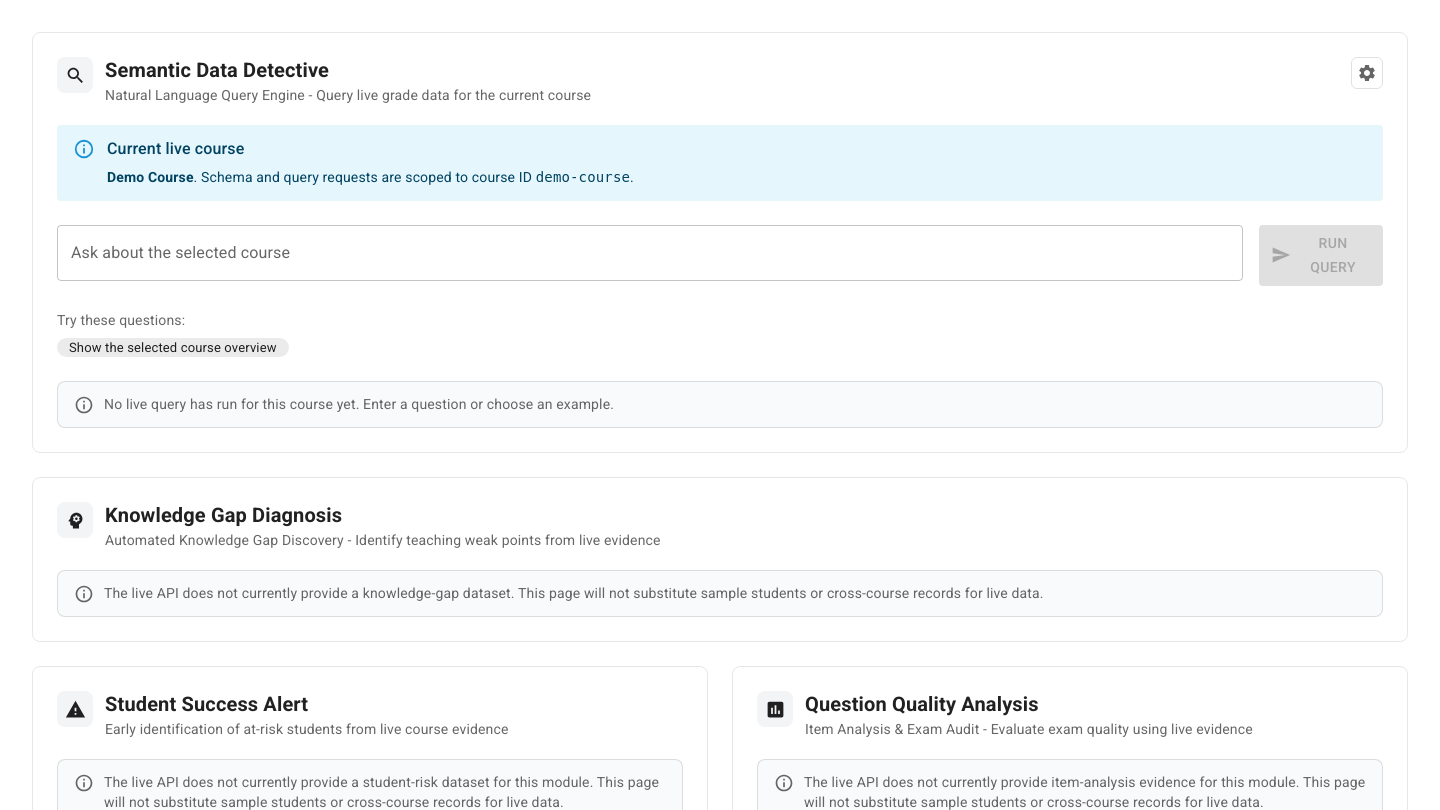
Scenario: AI Analytics live request states › renders live statistics objects instead of dropping their values
Type "Show statistics" into the field labelled "Ask about the selected course". click: (650, 253)
box: [57,225,1243,281]
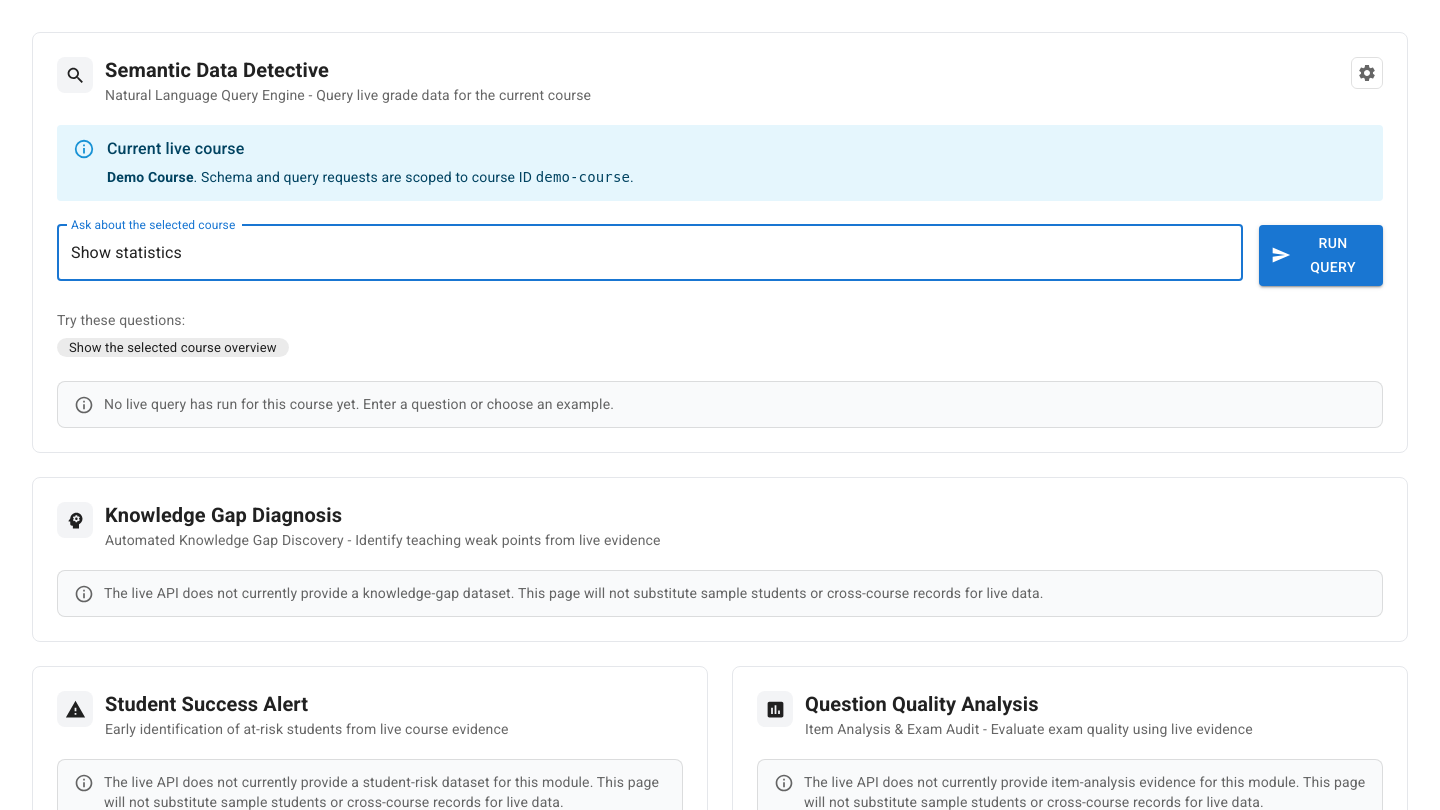
Click the button "Run query". click: (1321, 255)
box: [1259,225,1383,286]
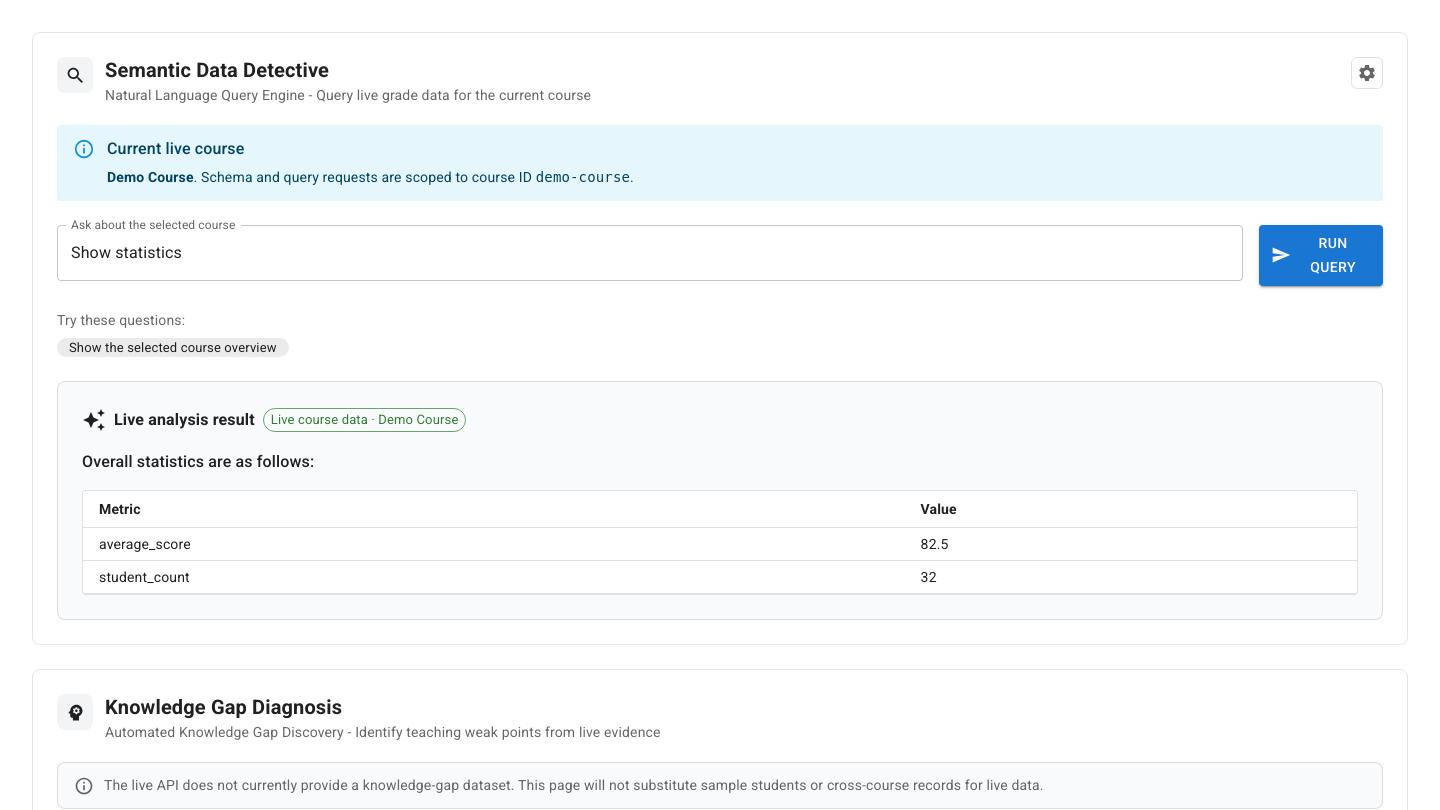
Check: the table named "Live AI Analytics result fields" is shown, box [83,491,1357,594]
Check: the cell "average_score" is shown, box [83,528,905,561]
Check: the cell "82.5" is shown, box [905,528,1357,561]
